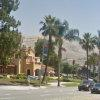Tree: (0, 0, 44, 54)
